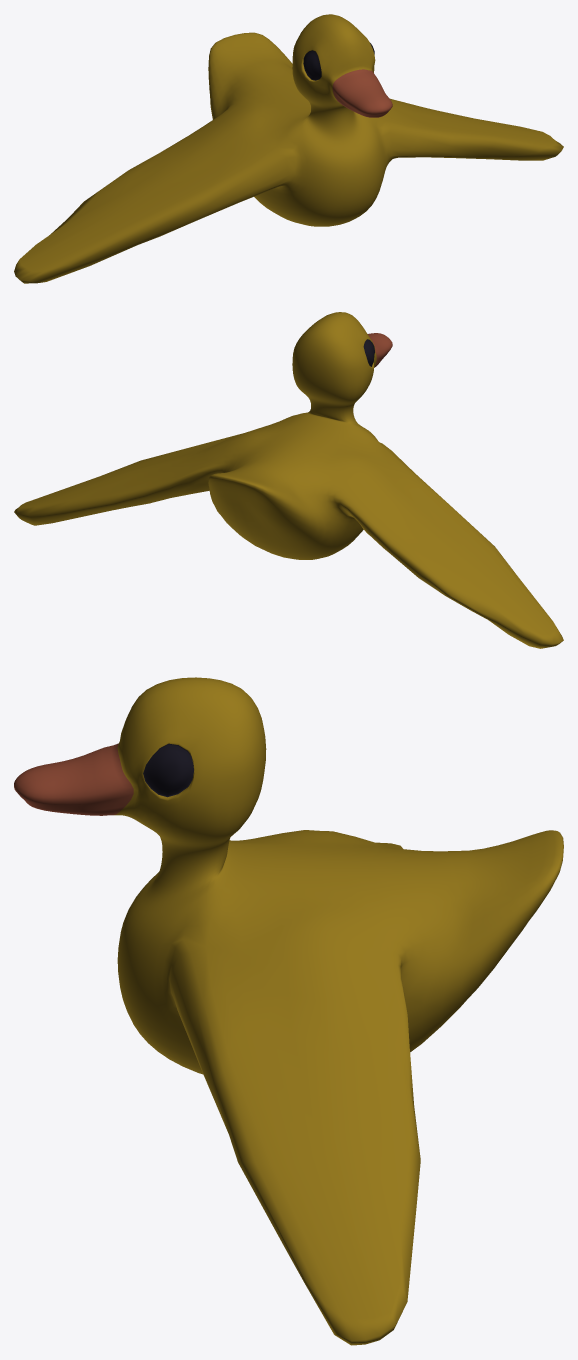
File: duck_down.fbx
3 renders of one model, top to bottom at view 1: azimuth 30°, elevation 25°; view 2: azimuth 150°, elevation 25°; view 3: azimuth 270°, elevation 25°, orthographic. The views are drawn at different scales.
Parts seen in each view (by area): view 1: duck_down; view 2: duck_down; view 3: duck_down.
Boxes of the visible parts, x1=… form: duck_down: x1=14, y1=14, x2=563, y2=283; duck_down: x1=14, y1=312, x2=563, y2=648; duck_down: x1=14, y1=677, x2=563, y2=1345.
Size of the model in its own units: 4.41 by 1.82 by 2.1.
